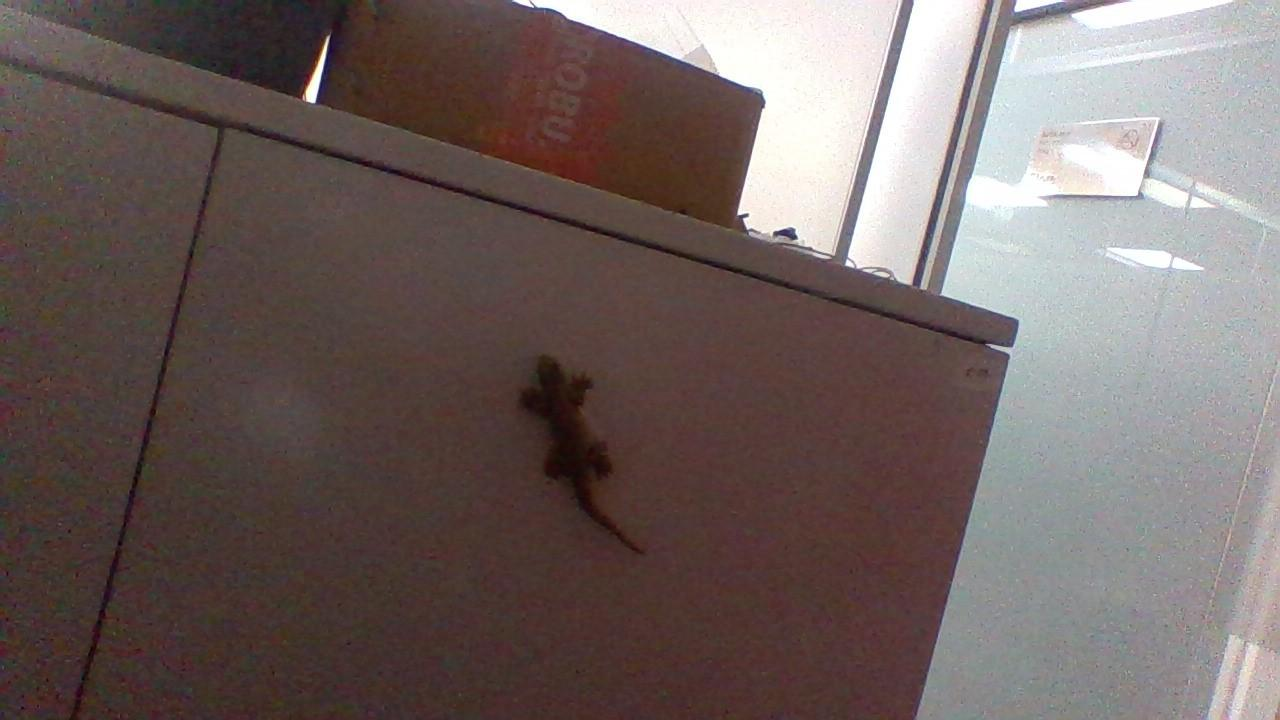lizard: (509, 342, 643, 550)
